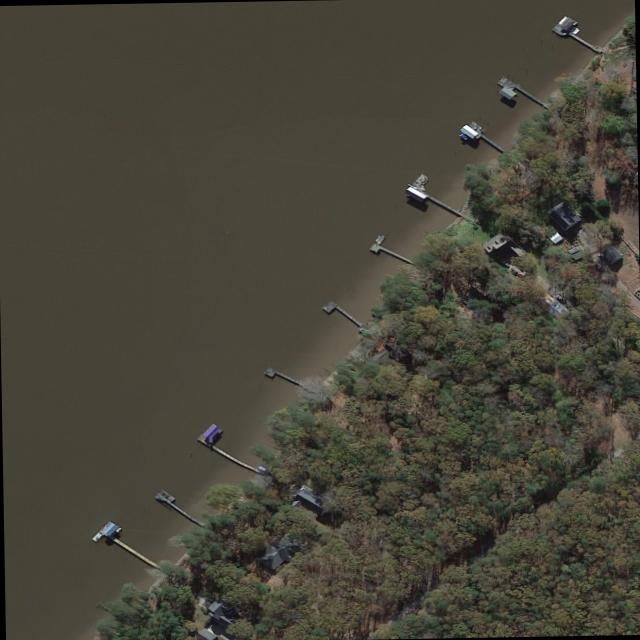ship: (458, 132, 468, 140)
